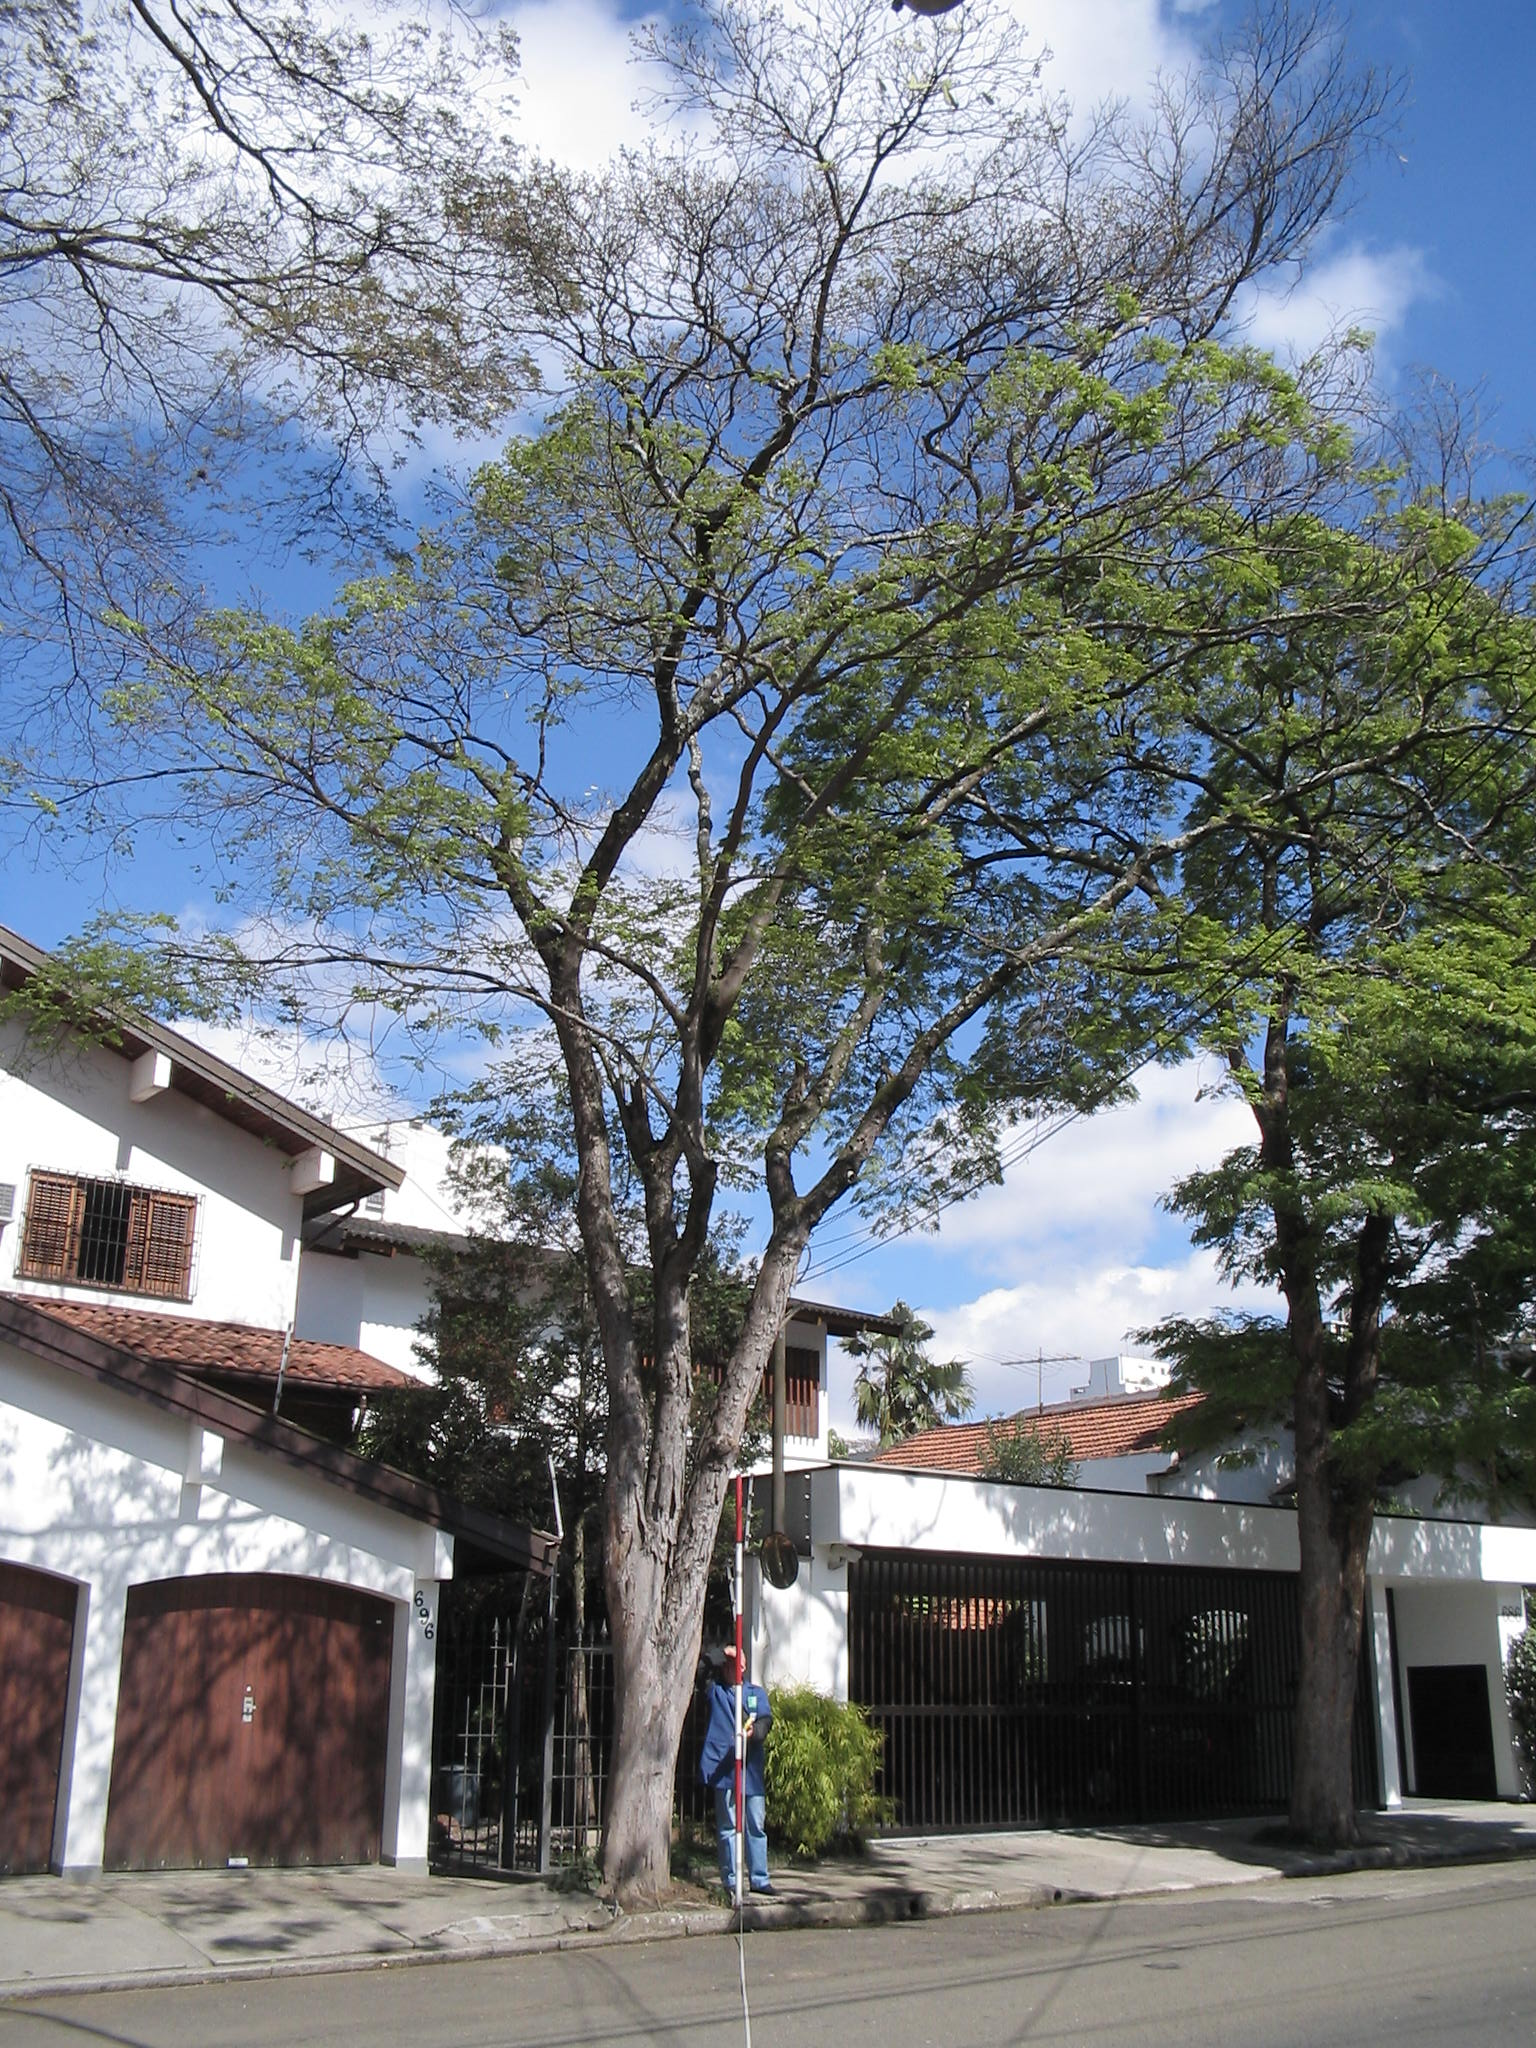crown: (27, 292, 1520, 1247)
stem: (557, 1550, 724, 1887)
stick: (695, 1467, 779, 1906)
tree: (19, 287, 1520, 1896)
